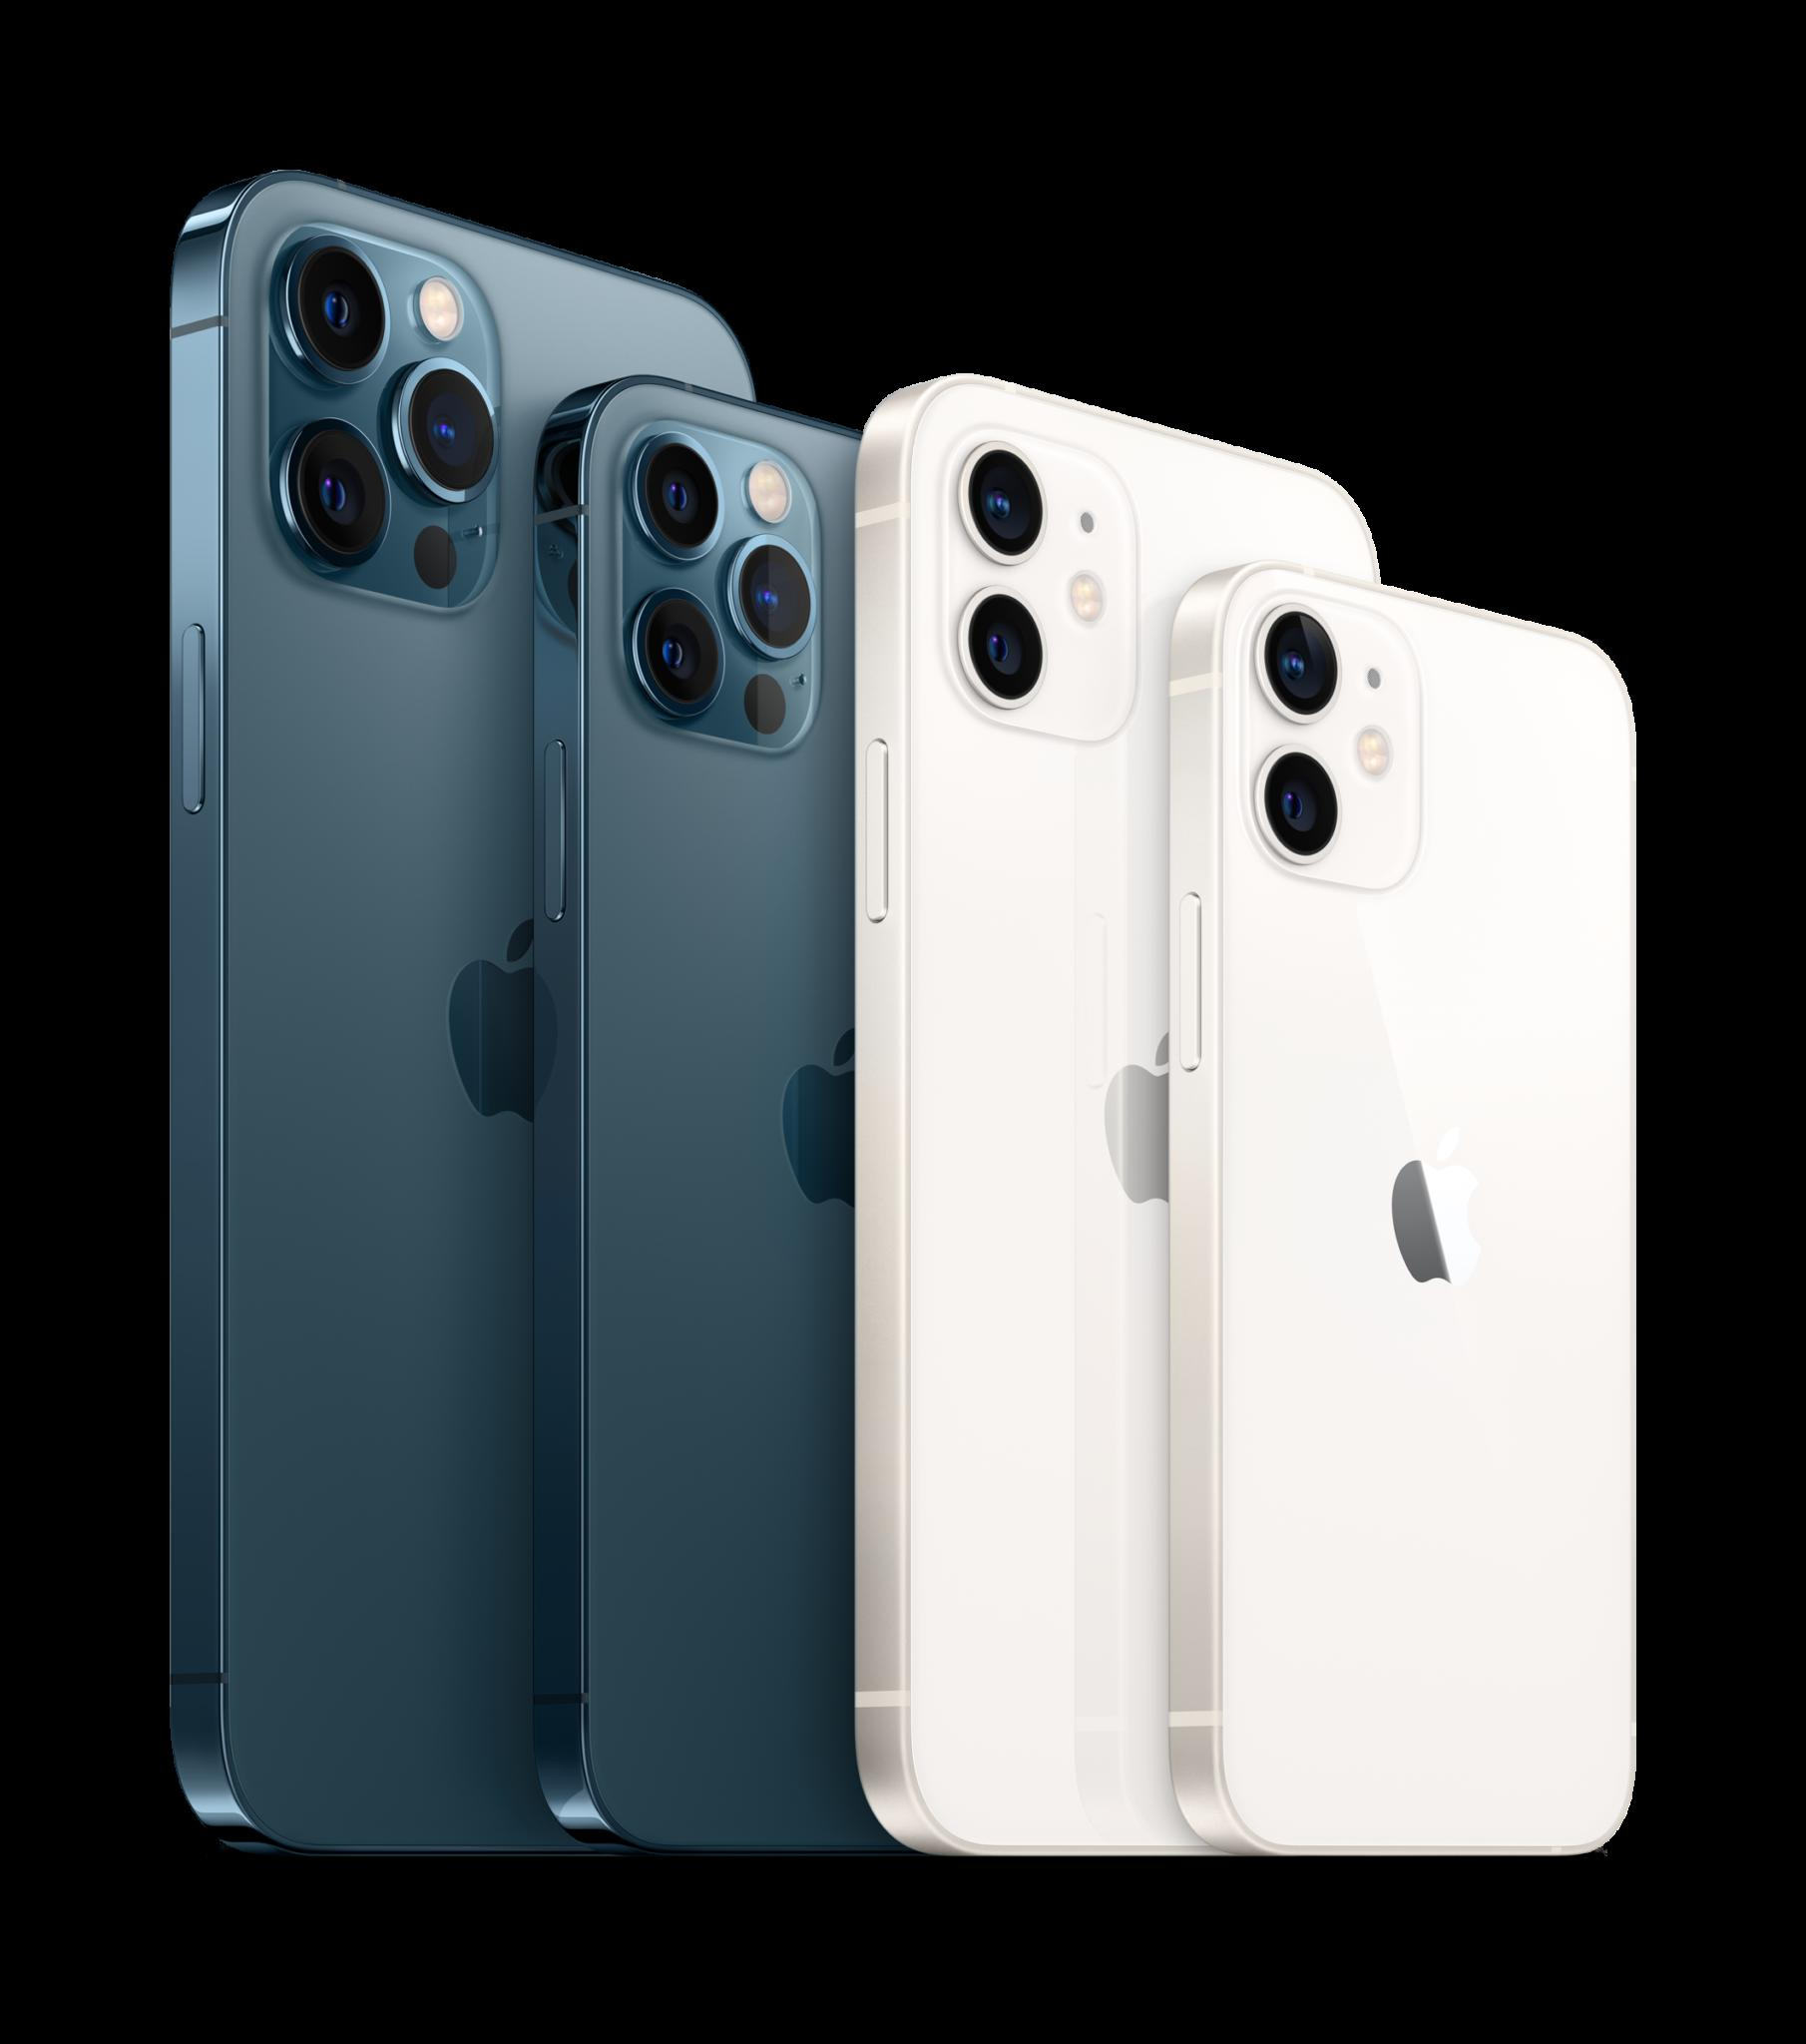-iphone12: (115, 136, 1740, 1938)
